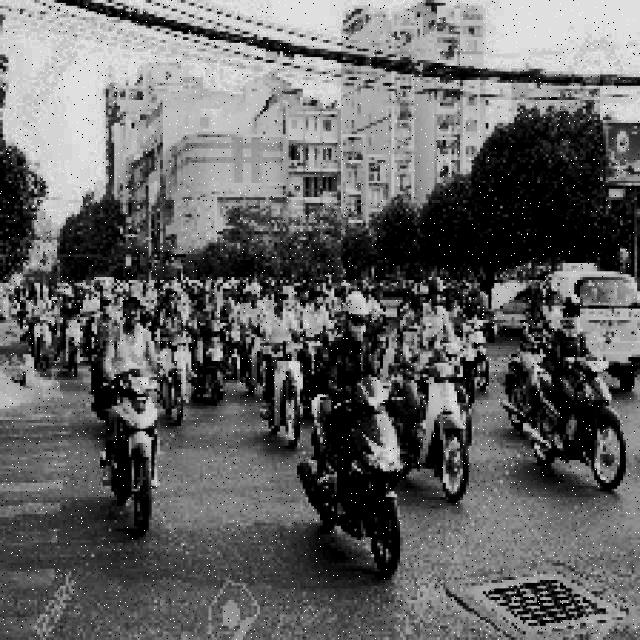Bike: (307, 378, 408, 584), (91, 352, 175, 550), (520, 352, 631, 496), (399, 337, 478, 499)
